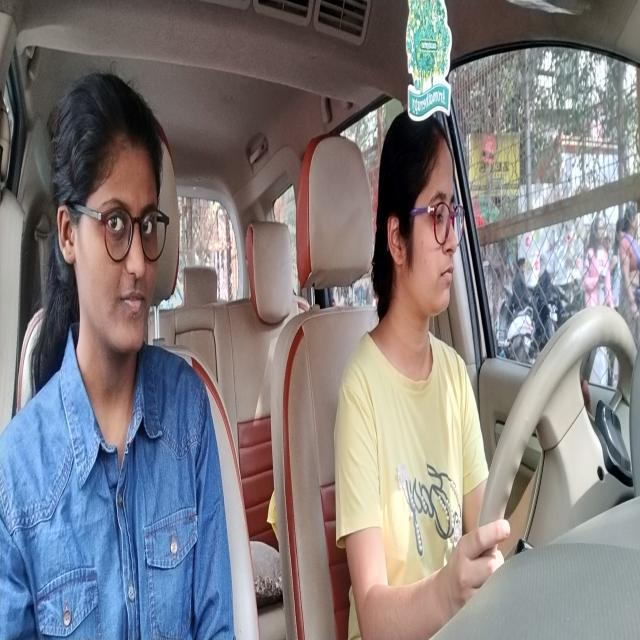person: (56, 67, 168, 382), (378, 104, 462, 346)
